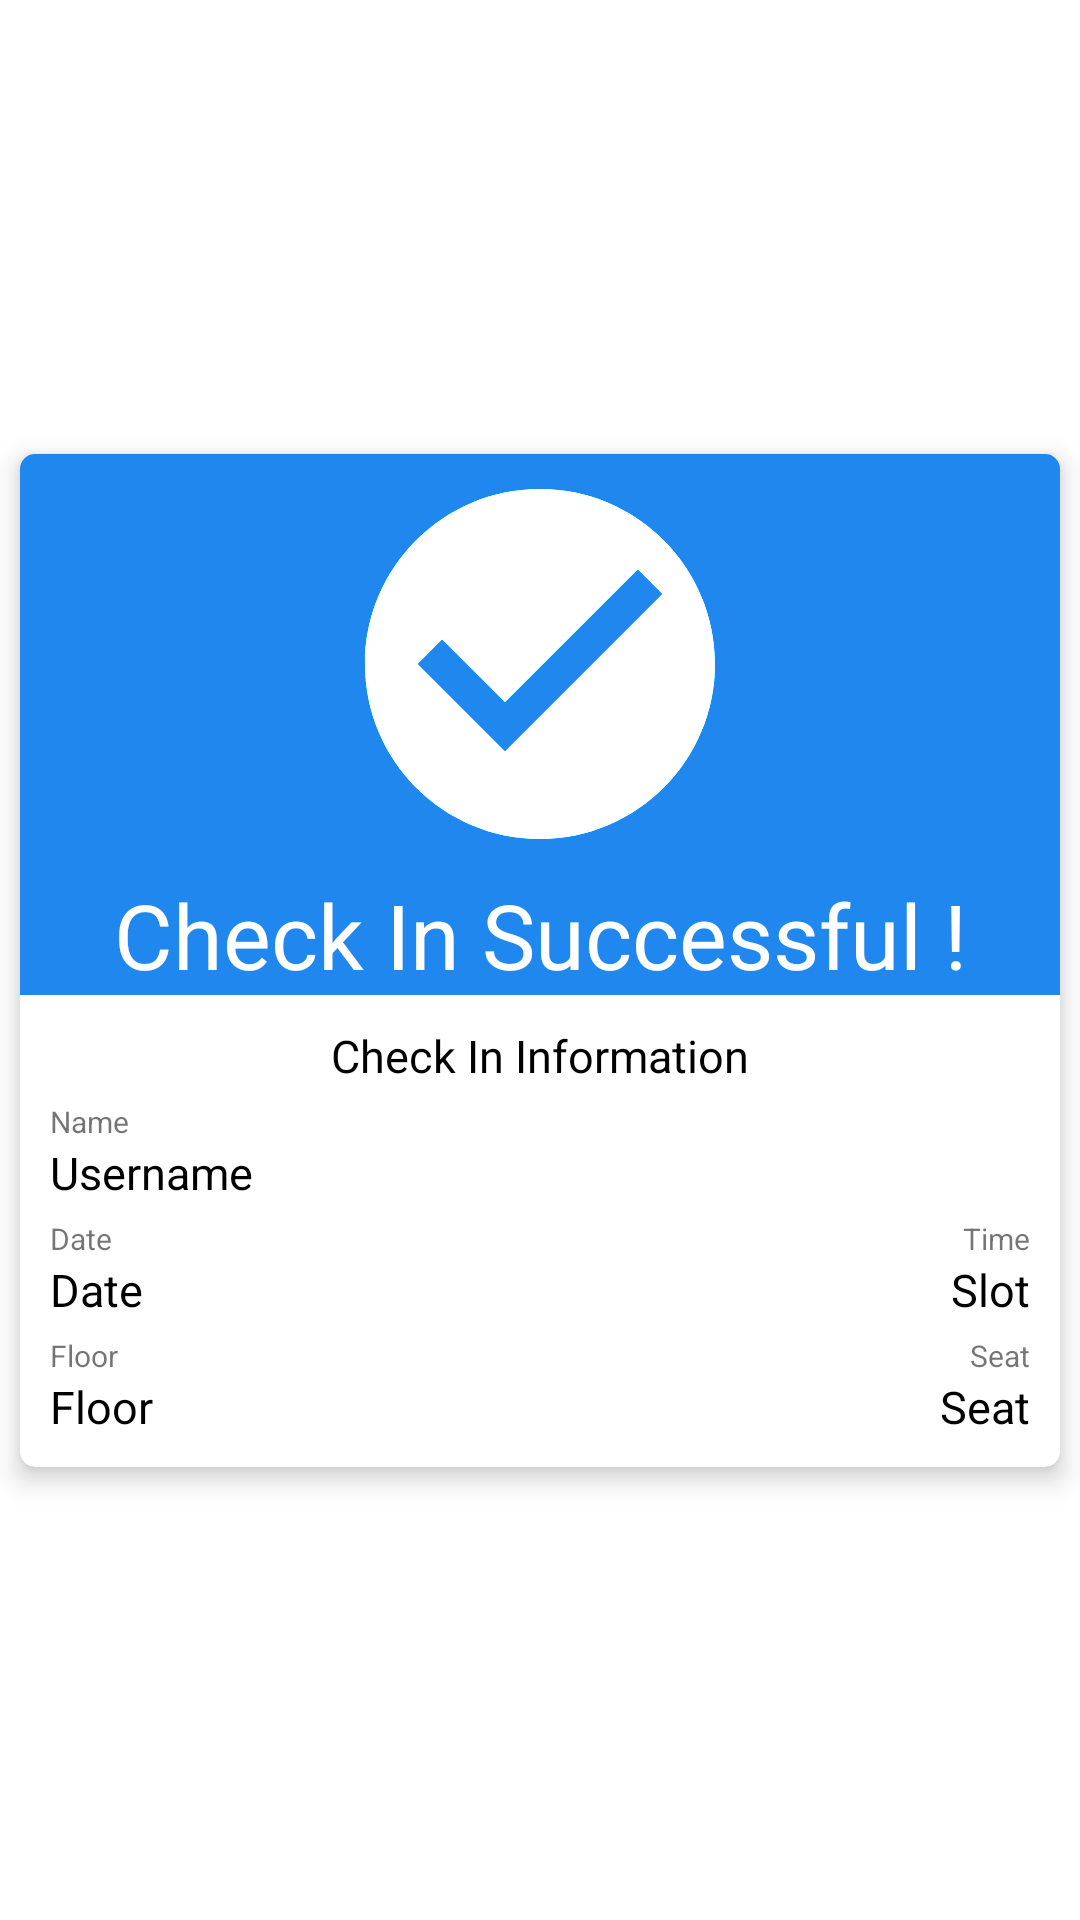

Icon click points for this 1080x1920 phone screenshot, format (x,y):
check circle: (540,664)
